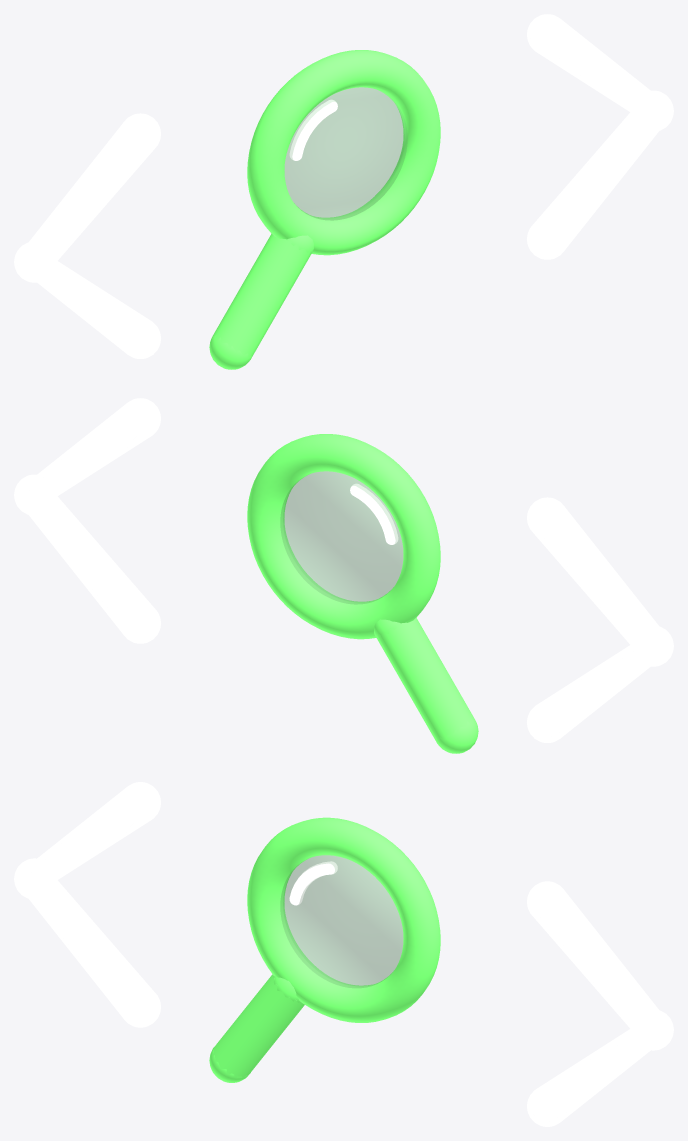
File: cp-icon.glb
3 views of the same model, one above another, from view 1: azimuth 30°, elevation 25°; view 2: azimuth 150°, elevation 25°; view 3: azimuth 330°, elevation 25° (orthographic).
Visible parts, largest first — view 1: CP_Ring, CP_ChevronLeft, CP_ChevronRight, CP_Glass, CP_Handle, CP_Highlight; view 2: CP_Ring, CP_ChevronLeft, CP_ChevronRight, CP_Glass, CP_Handle, CP_Highlight; view 3: CP_Ring, CP_ChevronLeft, CP_ChevronRight, CP_Glass, CP_Handle, CP_Highlight.
Boxes of the visible parts, x1=… form: CP_Ring: x1=247, y1=50, x2=440, y2=255; CP_ChevronLeft: x1=14, y1=113, x2=160, y2=358; CP_ChevronRight: x1=527, y1=14, x2=673, y2=259; CP_Glass: x1=284, y1=87, x2=406, y2=219; CP_Handle: x1=209, y1=233, x2=313, y2=369; CP_Highlight: x1=289, y1=99, x2=337, y2=160; CP_Ring: x1=247, y1=434, x2=440, y2=639; CP_ChevronLeft: x1=527, y1=497, x2=673, y2=742; CP_ChevronRight: x1=14, y1=398, x2=160, y2=643; CP_Glass: x1=281, y1=471, x2=403, y2=603; CP_Handle: x1=374, y1=617, x2=478, y2=753; CP_Highlight: x1=350, y1=483, x2=398, y2=544; CP_Ring: x1=247, y1=817, x2=440, y2=1022; CP_ChevronLeft: x1=14, y1=782, x2=160, y2=1027; CP_ChevronRight: x1=527, y1=881, x2=673, y2=1126; CP_Glass: x1=281, y1=855, x2=403, y2=987; CP_Handle: x1=209, y1=974, x2=304, y2=1082; CP_Highlight: x1=289, y1=861, x2=337, y2=905.
Bounding box in the file's own units: 4.02 × 1.68 × 0.24.
